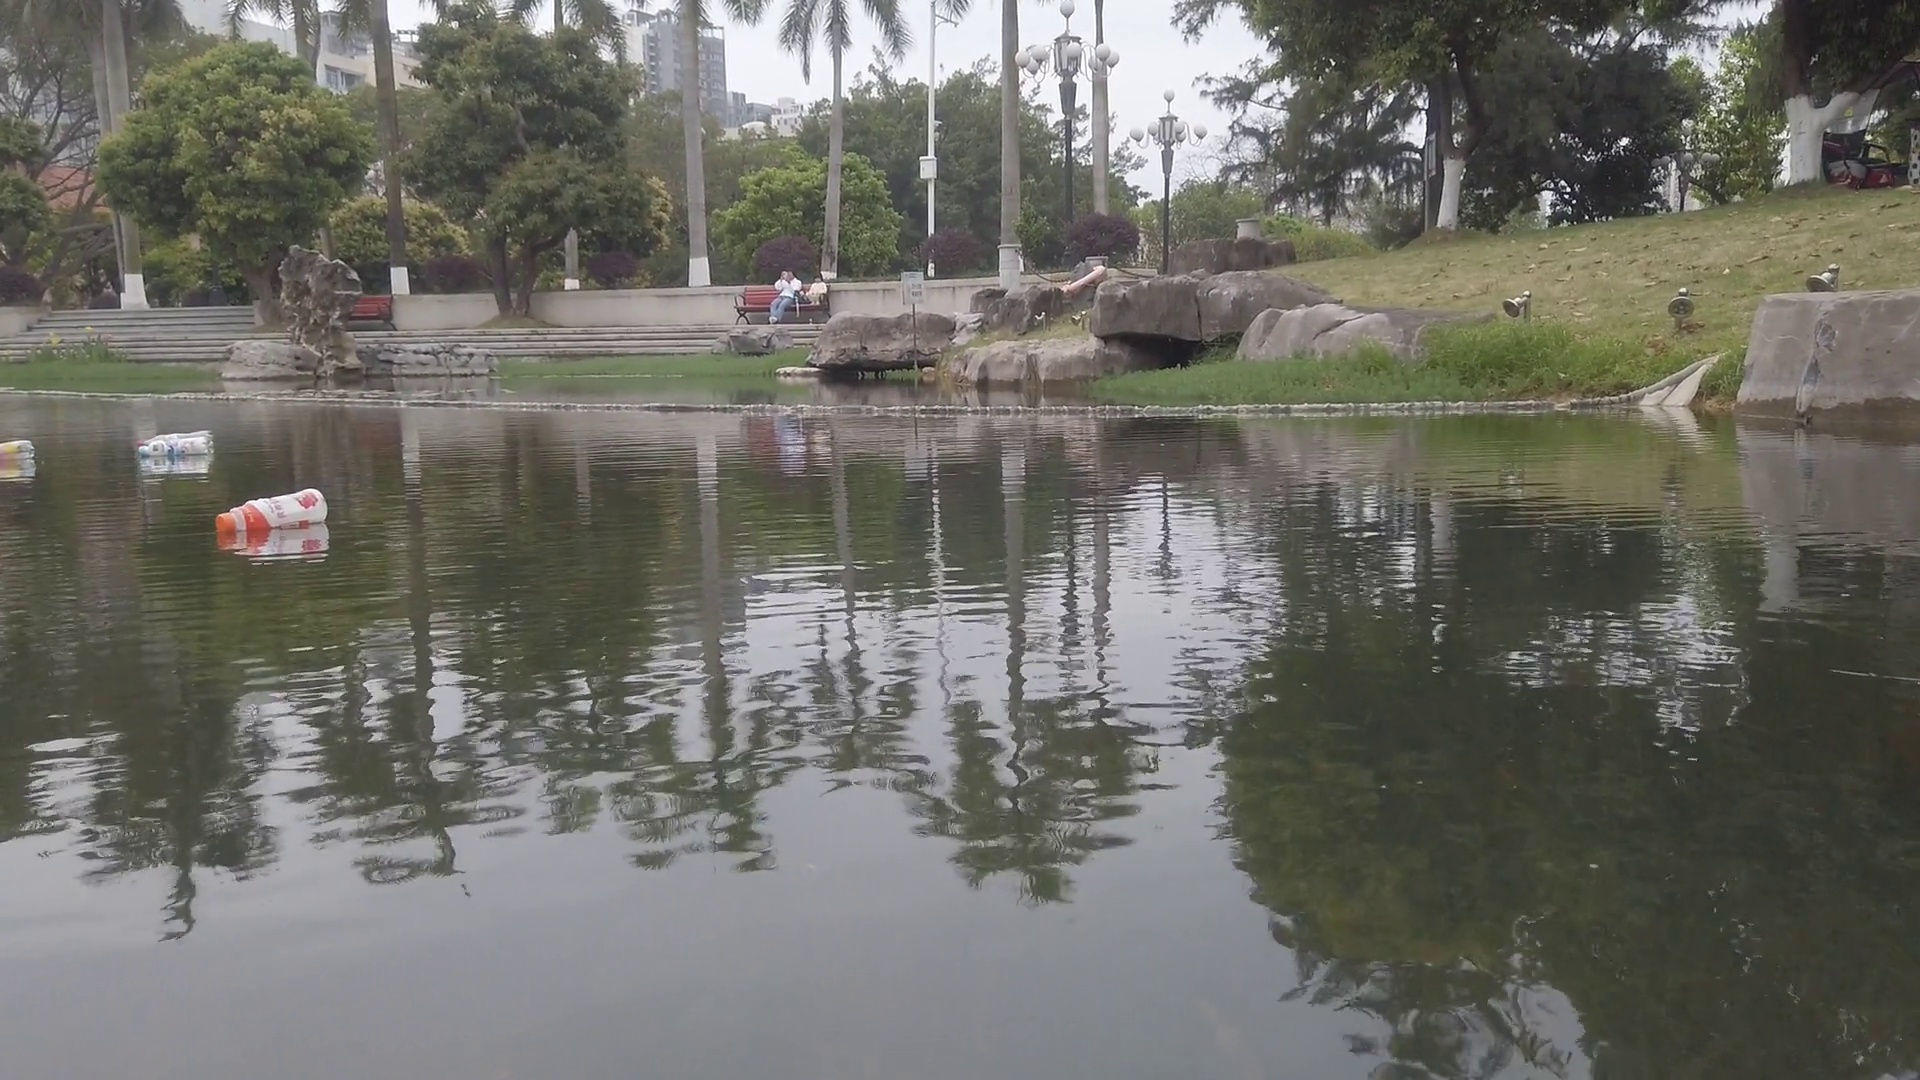bottle: (214, 484, 328, 535), (136, 433, 214, 456), (138, 440, 208, 459), (3, 439, 34, 458)
